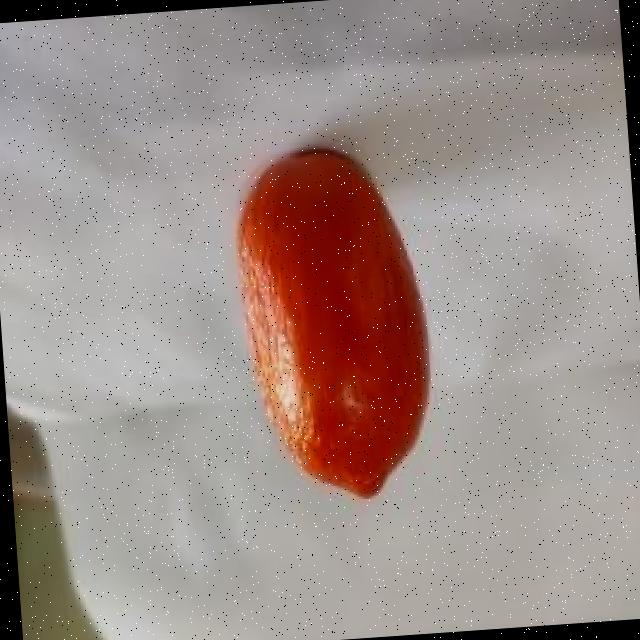overripe: (222, 135, 446, 510)
